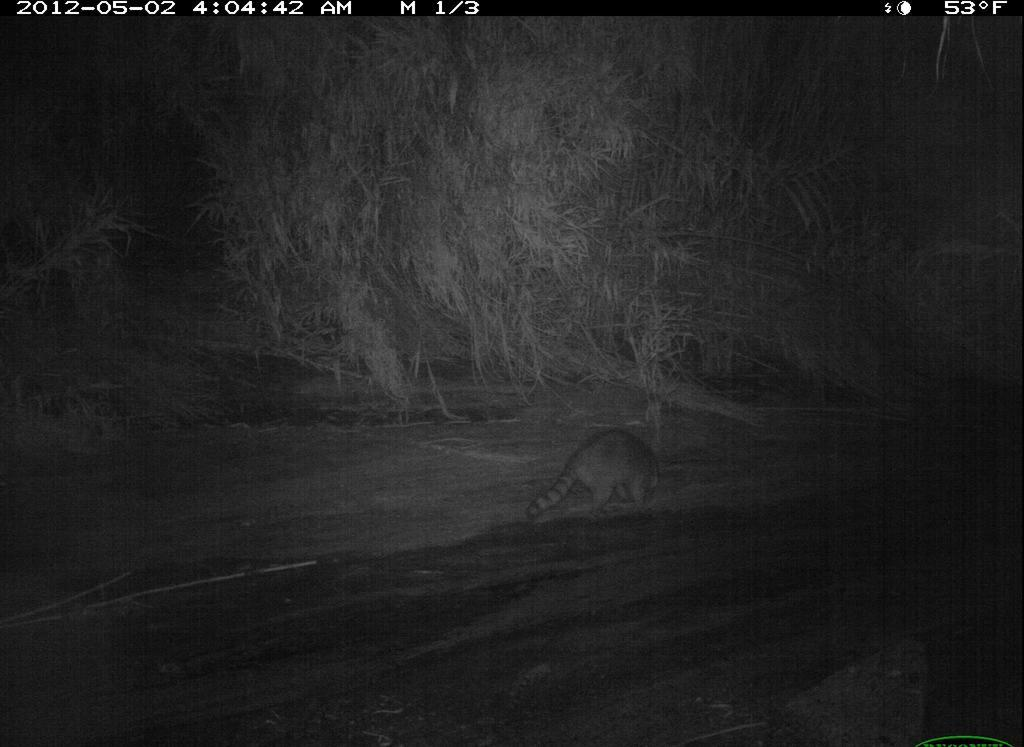raccoon: (507, 417, 724, 568)
